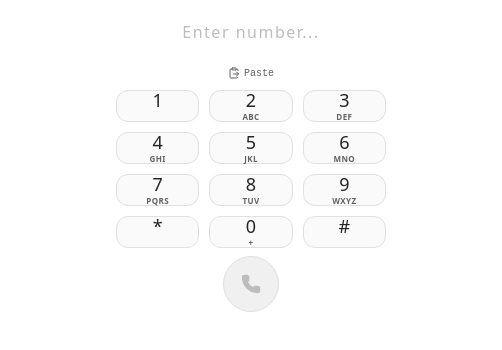
it: SipContext (native) › dialpad blocks invalid numbers with guidance
The width and height of the screenshot is (502, 350).
What coordinates should you click on to do the following:
click the button "*"
I would click on:
 (158, 232)
Its box is [116, 216, 199, 248].
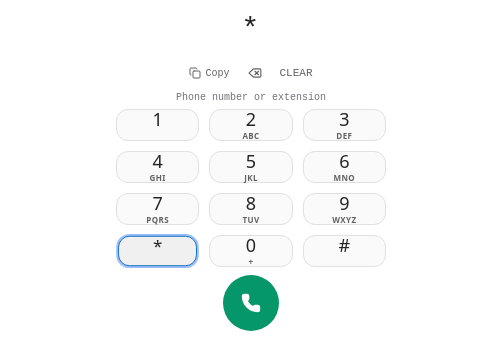
What coordinates should you click on to do the following:
click the button "1"
I would click on:
 (158, 125)
Its box is [116, 109, 199, 141].
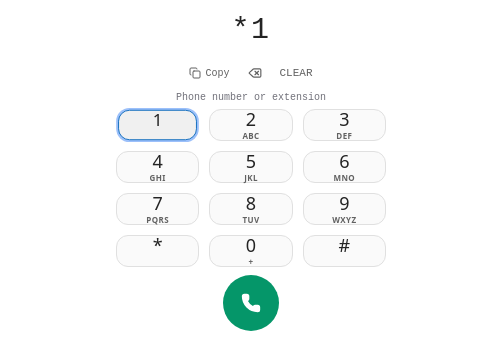
What coordinates should you click on to do the following:
click the button titled "Initiate Call"
I would click on:
 (251, 303)
Its box is [223, 275, 279, 331].
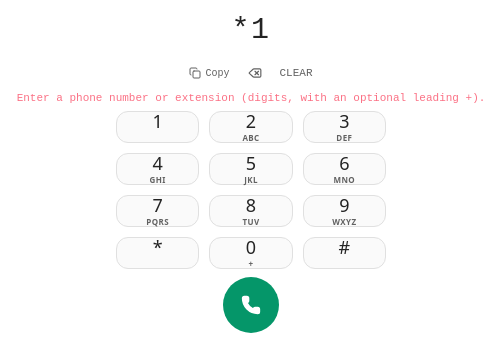
Expected: the message shows "phone number or extension", [17, 92, 485, 104]
